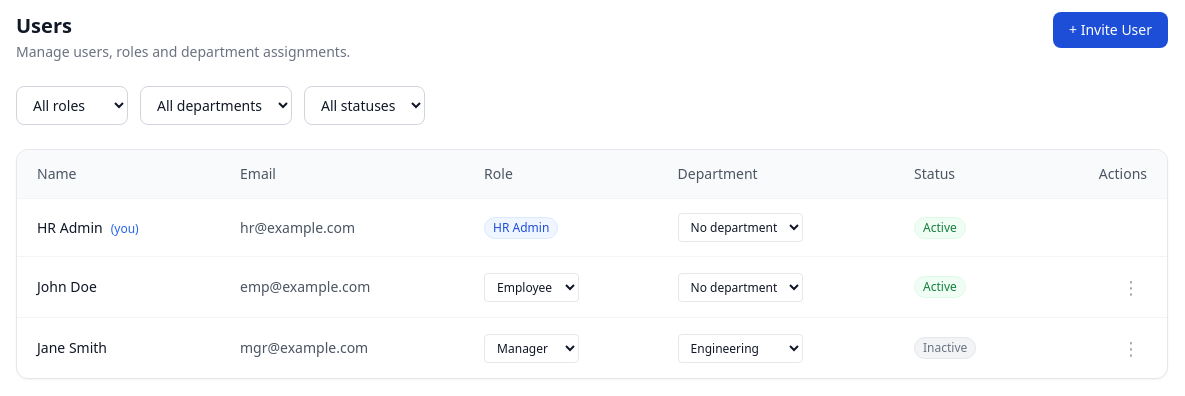
it: UsersPage › filters users by status
Expected: the text "Jane Smith" is shown, [17, 318, 220, 378]
Select "Active" in the 3rd dropdown showing "All statuses" at (364, 106), box [304, 86, 425, 125]
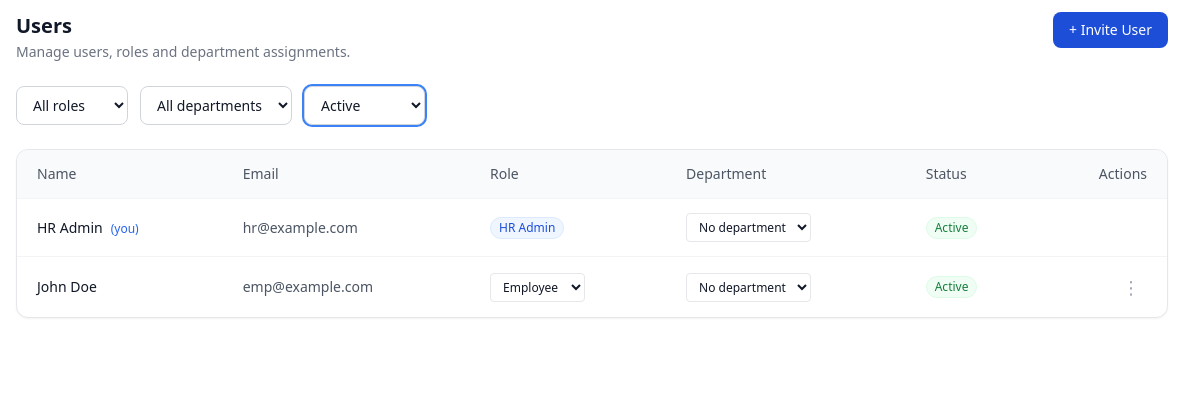
Expected: the text "John Doe" is shown, [17, 256, 223, 317]
Expected: the text "Jane Smith" is gone
